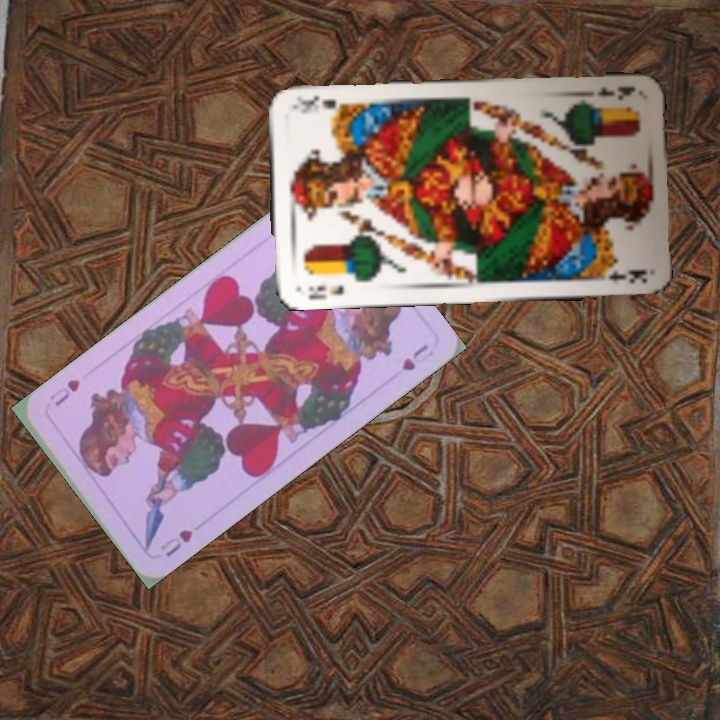EK: (580, 82, 638, 102), (304, 281, 347, 301)
HU: (156, 525, 195, 560)
